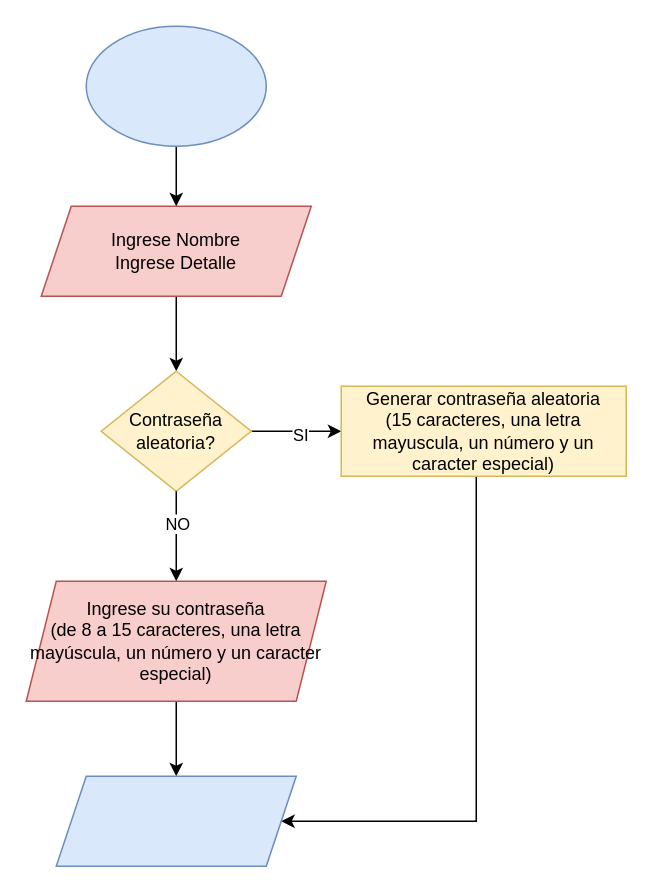
The diagram is 653 pixels wide and 893 high, and some of its shapes have lost their labels. Each missing label, with the centre of its shape:
"Crear nueva contraseña" goes at pixel 175 85.
"Guardar contraseña en archivo" goes at pixel 175 820.
